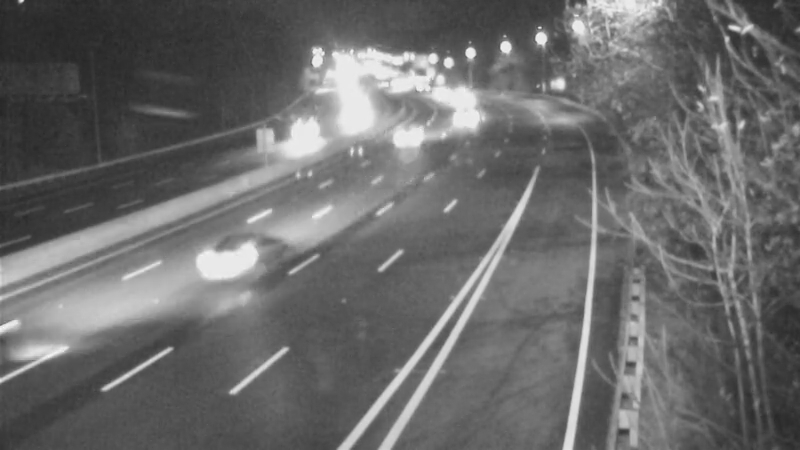vehicle: (186, 228, 266, 308), (411, 69, 461, 119), (436, 80, 486, 130), (438, 97, 488, 147), (385, 112, 435, 162), (279, 107, 329, 157), (326, 91, 376, 141)
